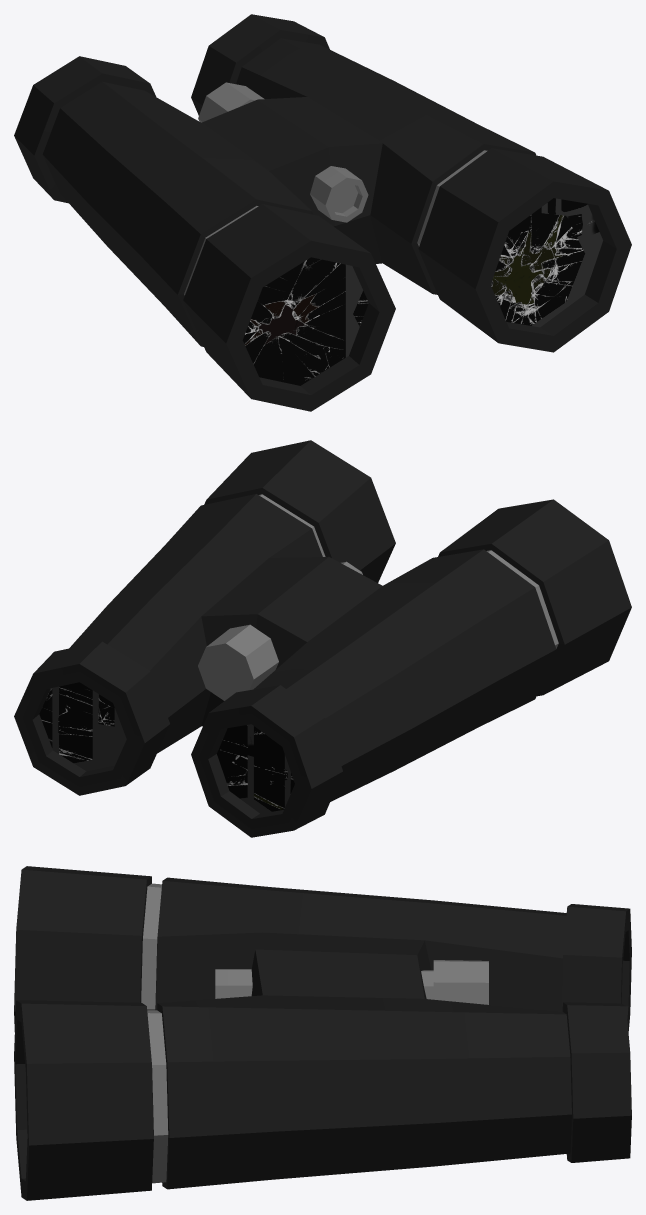
The model's file is binocular.fbx.
3 renders of one model, top to bottom at view 1: azimuth 30°, elevation 25°; view 2: azimuth 150°, elevation 25°; view 3: azimuth 270°, elevation 25°, orthographic. The views are drawn at different scales.
Parts seen in each view (by area): view 1: broken_binocular; view 2: broken_binocular; view 3: broken_binocular.
Boxes of the visible parts, x1,y1,x2,y2 form: broken_binocular: (14, 14, 631, 411); broken_binocular: (14, 440, 631, 837); broken_binocular: (14, 866, 631, 1200).
Size of the model in its own units: 10.06 by 4.05 by 11.72.
3 materials, 1 textured.
